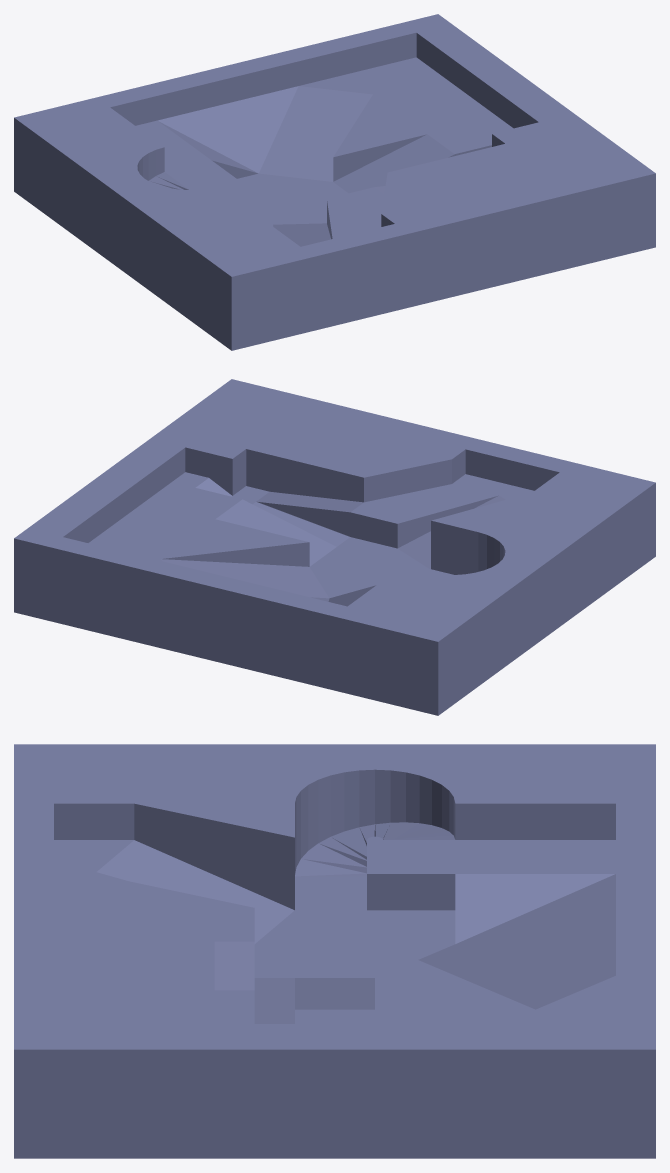
Rendered from syn_ramps.dae.
The picture shows the model from 3 angles, top to bottom: view 1: azimuth 30°, elevation 25°; view 2: azimuth 150°, elevation 25°; view 3: azimuth 270°, elevation 25°; orthographic projection. The views are drawn at different scales.
Visible parts, largest first — view 1: Plane; view 2: Plane; view 3: Plane.
Boxes of the visible parts, left/top/right/bottom form: Plane: left=14, top=14, right=655, bottom=350; Plane: left=14, top=379, right=655, bottom=715; Plane: left=14, top=744, right=655, bottom=1158.
Size of the model in its own units: 18 by 16 by 3.
